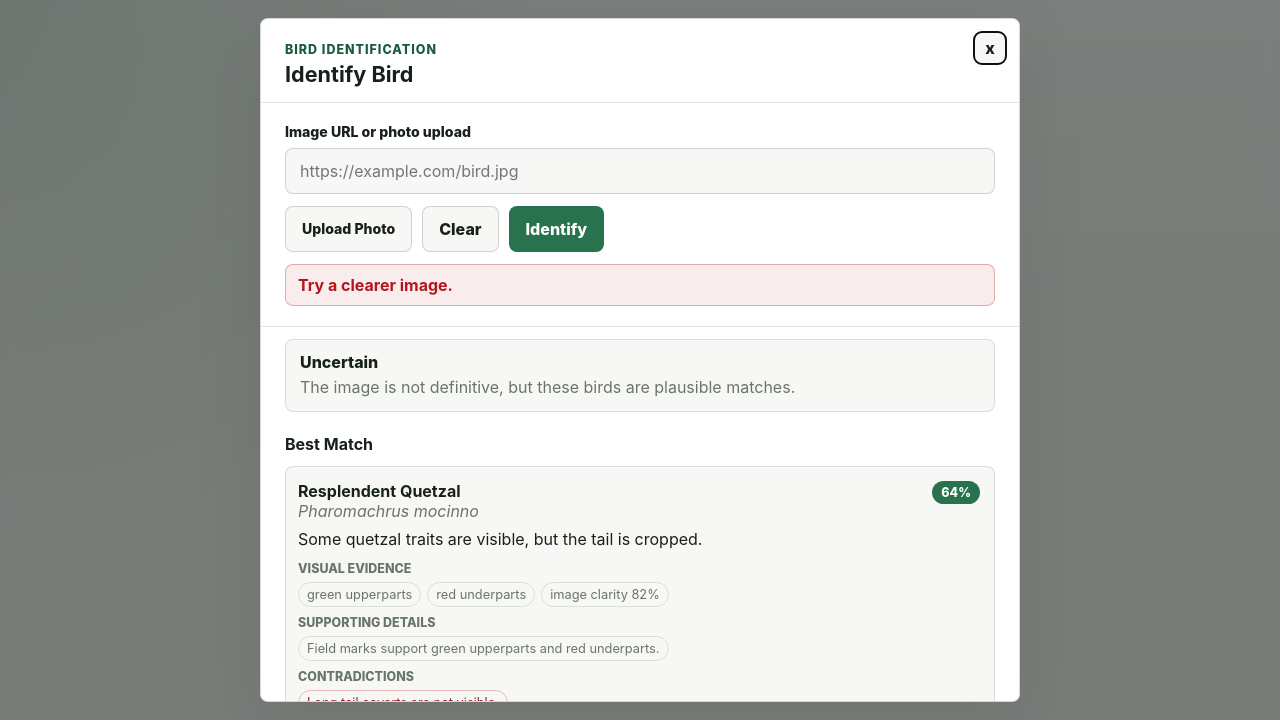
BirdIdentificationModal › renders friendly status, submitted URL preview, candidates, and candidate media
Type "https://example.test/submitted-bird.jpg" into the field labelled "Image URL or photo upload" at [640, 171], box [285,148,995,194]
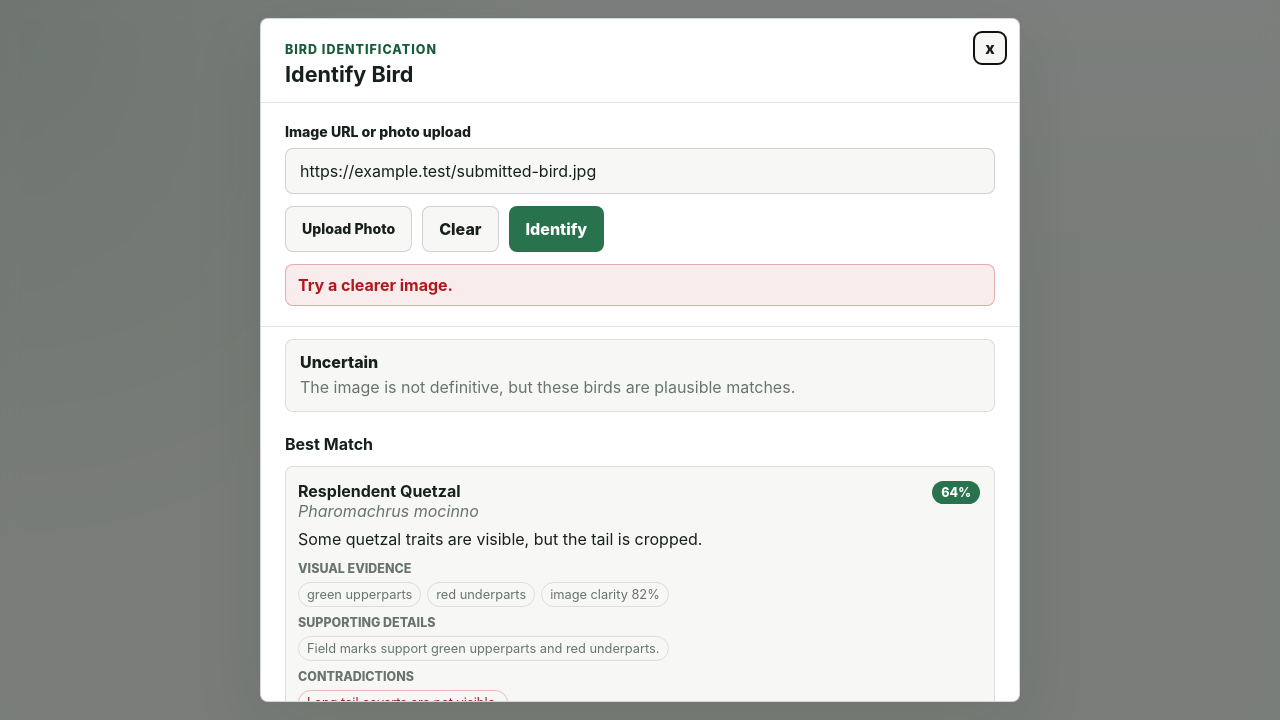
Click the button "Identify" at [556, 229], box [508,206,604,252]
(page scrolled)
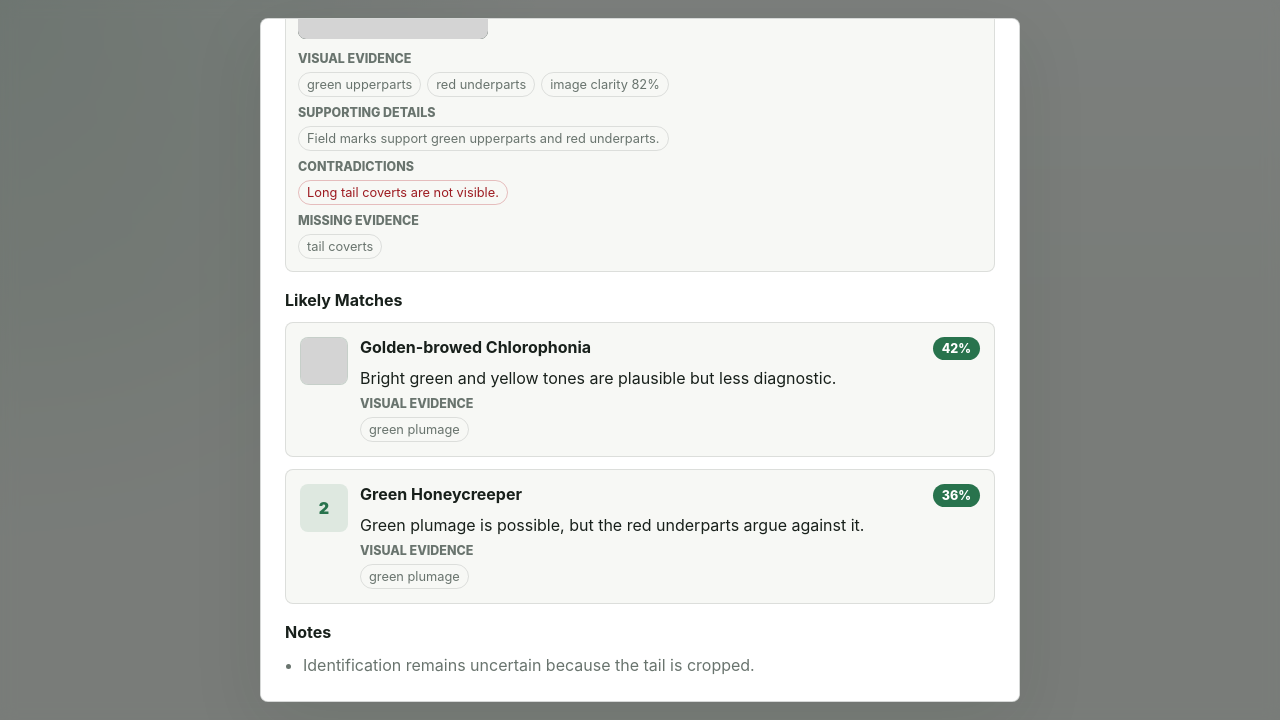
Now the heading "Resplendent Quetzal" is gone
Now the heading "Golden-browed Chlorophonia" is shown, box [360,337,591,357]
Now the text "42%" is shown, box [933,337,980,360]
